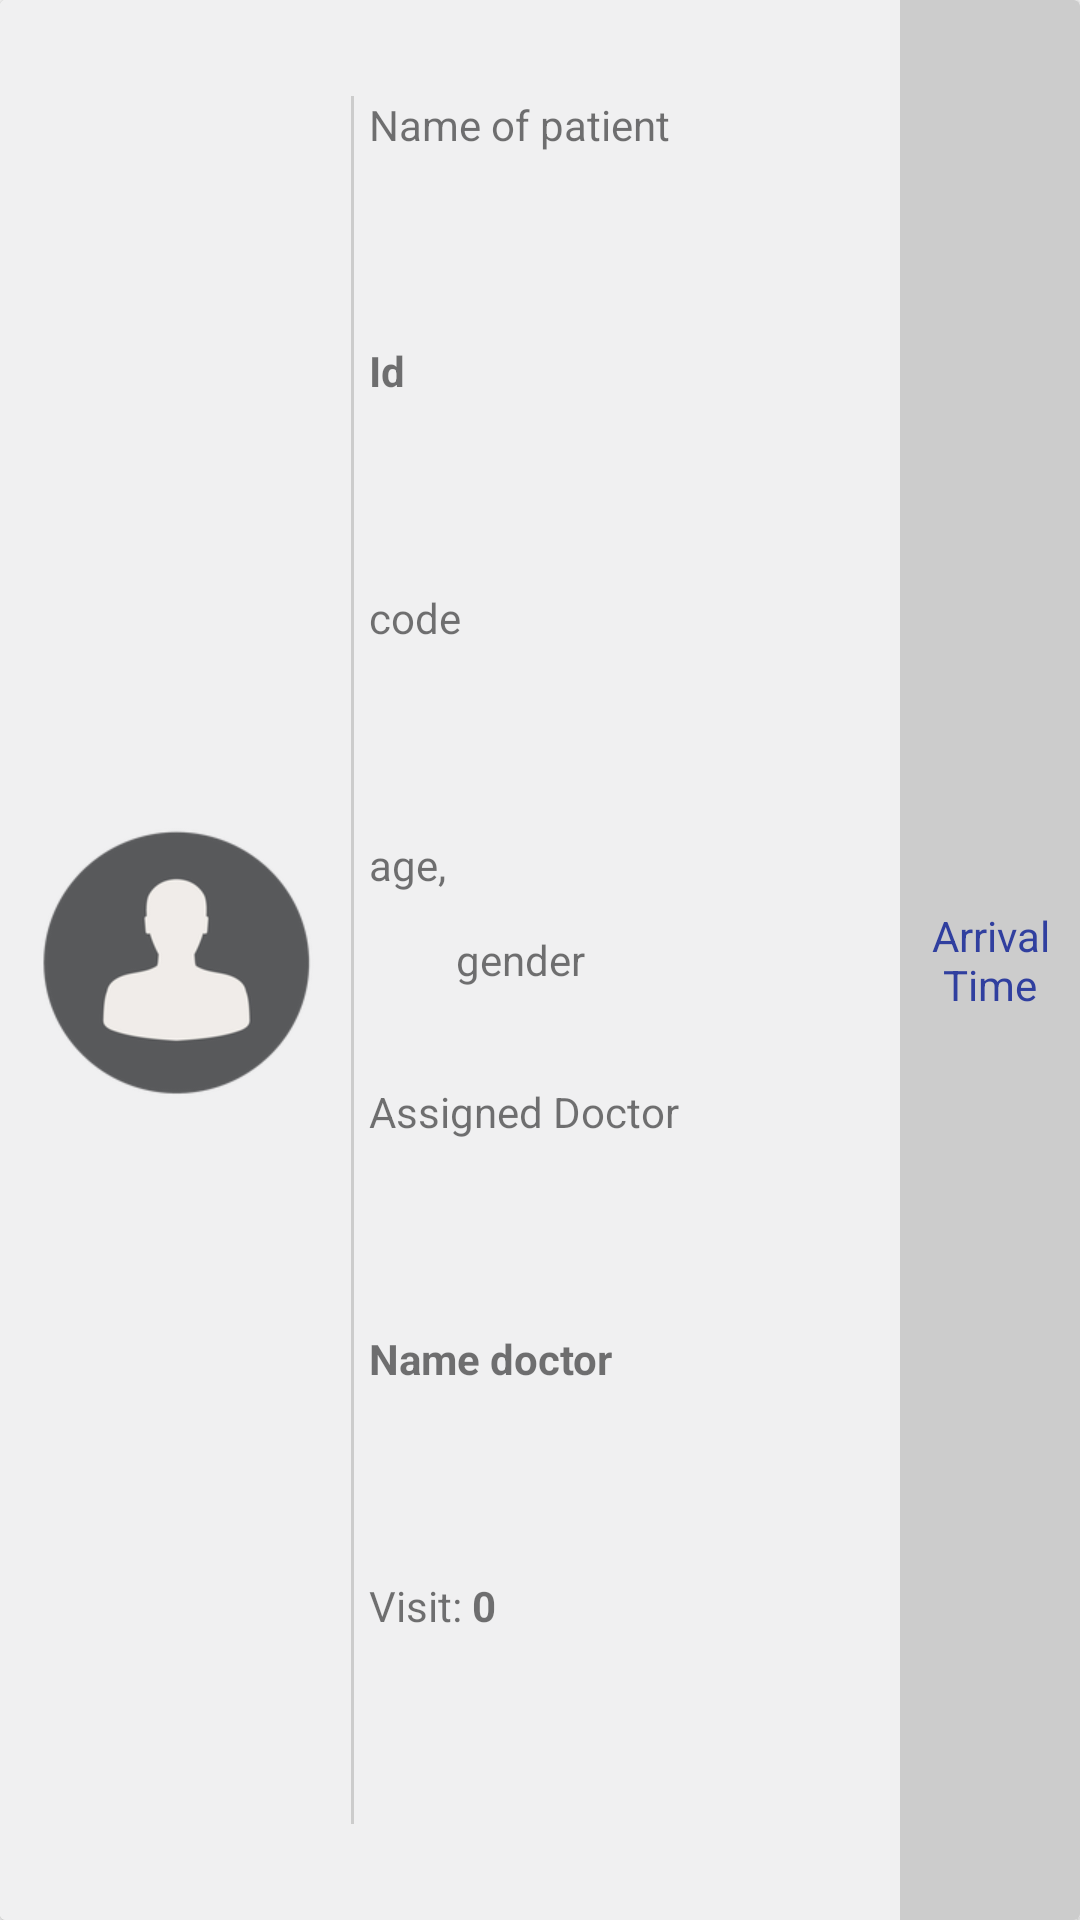

Point at icon controls on the screen. Image size 1080×1920, points as (x,y).
patient: (176,962)
